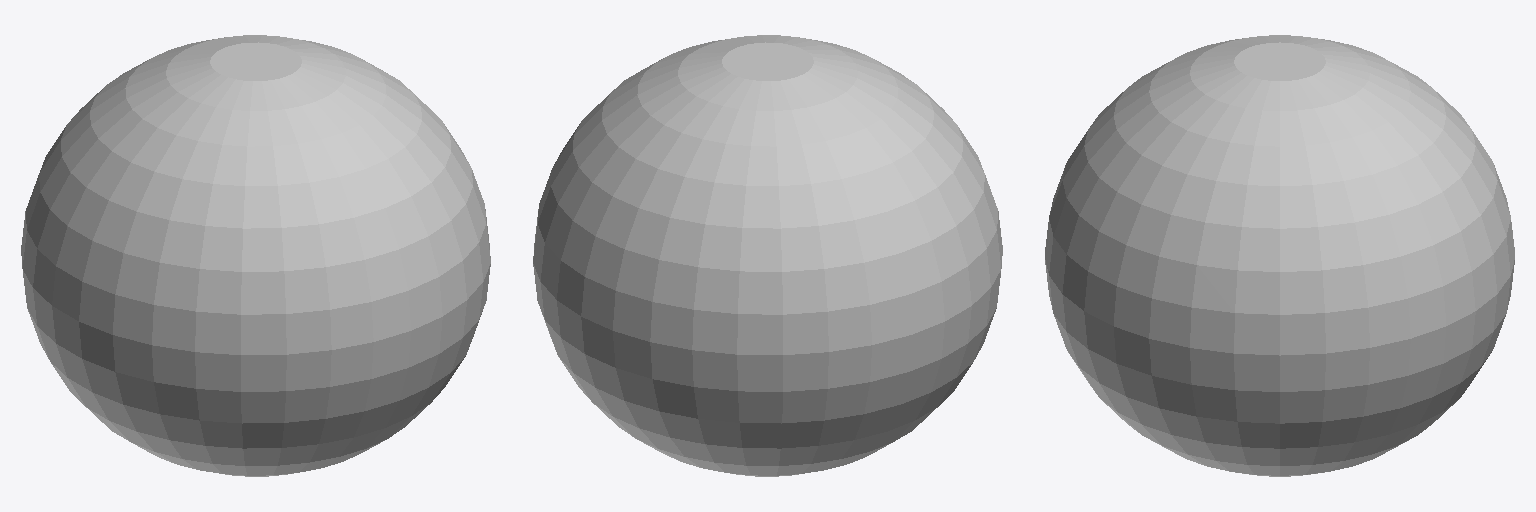
File: ball.obj
The picture shows the model from 3 angles: view 1: azimuth 30°, elevation 25°; view 2: azimuth 150°, elevation 25°; view 3: azimuth 270°, elevation 25°; orthographic projection.
Visible parts, largest first — view 1: Sphere_Sphere.001; view 2: Sphere_Sphere.001; view 3: Sphere_Sphere.001.
Part boxes in pixels (bbox=[...]): Sphere_Sphere.001: bbox=[21, 35, 490, 476]; Sphere_Sphere.001: bbox=[533, 35, 1002, 476]; Sphere_Sphere.001: bbox=[1045, 35, 1514, 476].
Bounding box in the file's own units: 1 × 0.9095 × 1.